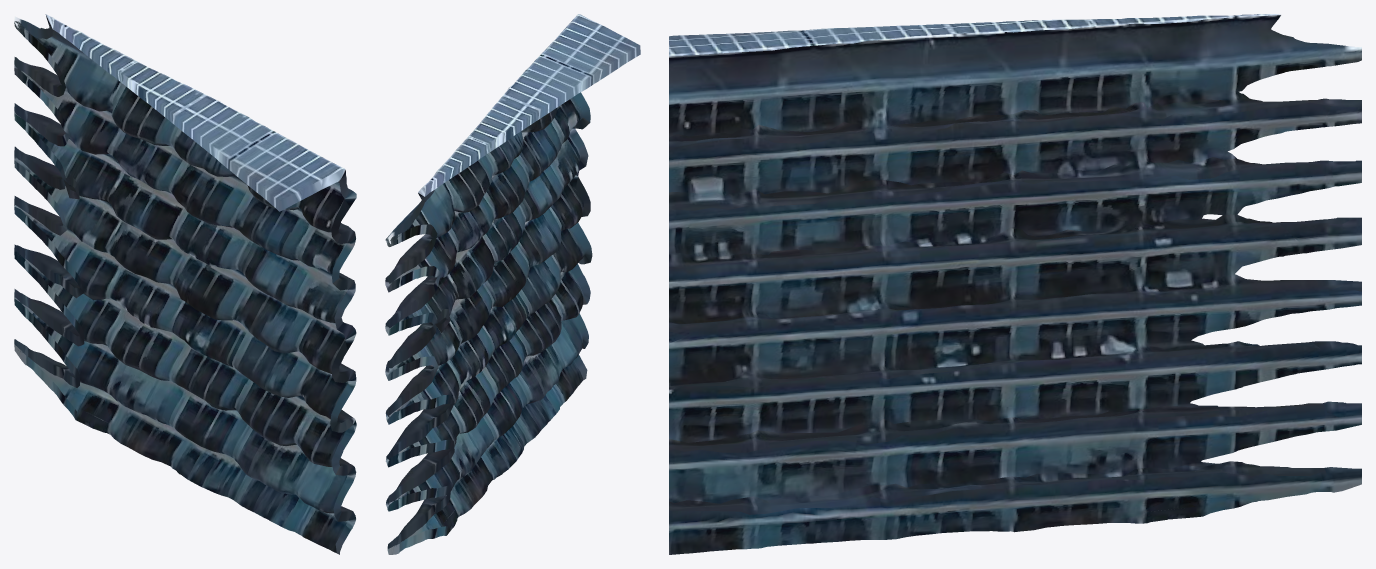
File: z20-167730-405195-h1-yup-uvflip-v3-world.glb
3 views of the same model, side by side, from view 1: azimuth 30°, elevation 25°; view 2: azimuth 150°, elevation 25°; view 3: azimuth 270°, elevation 25° (orthographic). The views are drawn at different scales.
Size of the model in its own units: 5.12 by 24.4 by 30.32.
1 material, 1 textured.
